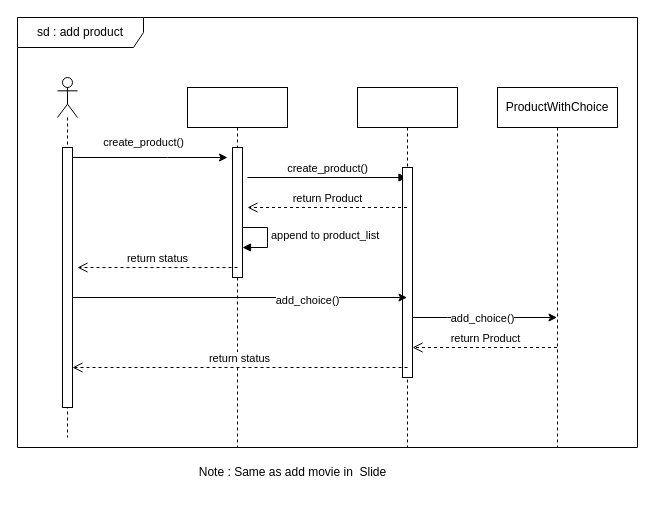
This 655x505 diagram has some shape labels left out. Here are the shapes that lost their labels. From the top down, the box of each, then its label:
(186, 86, 288, 448): :ProductCatalog
(356, 86, 458, 448): :Product
